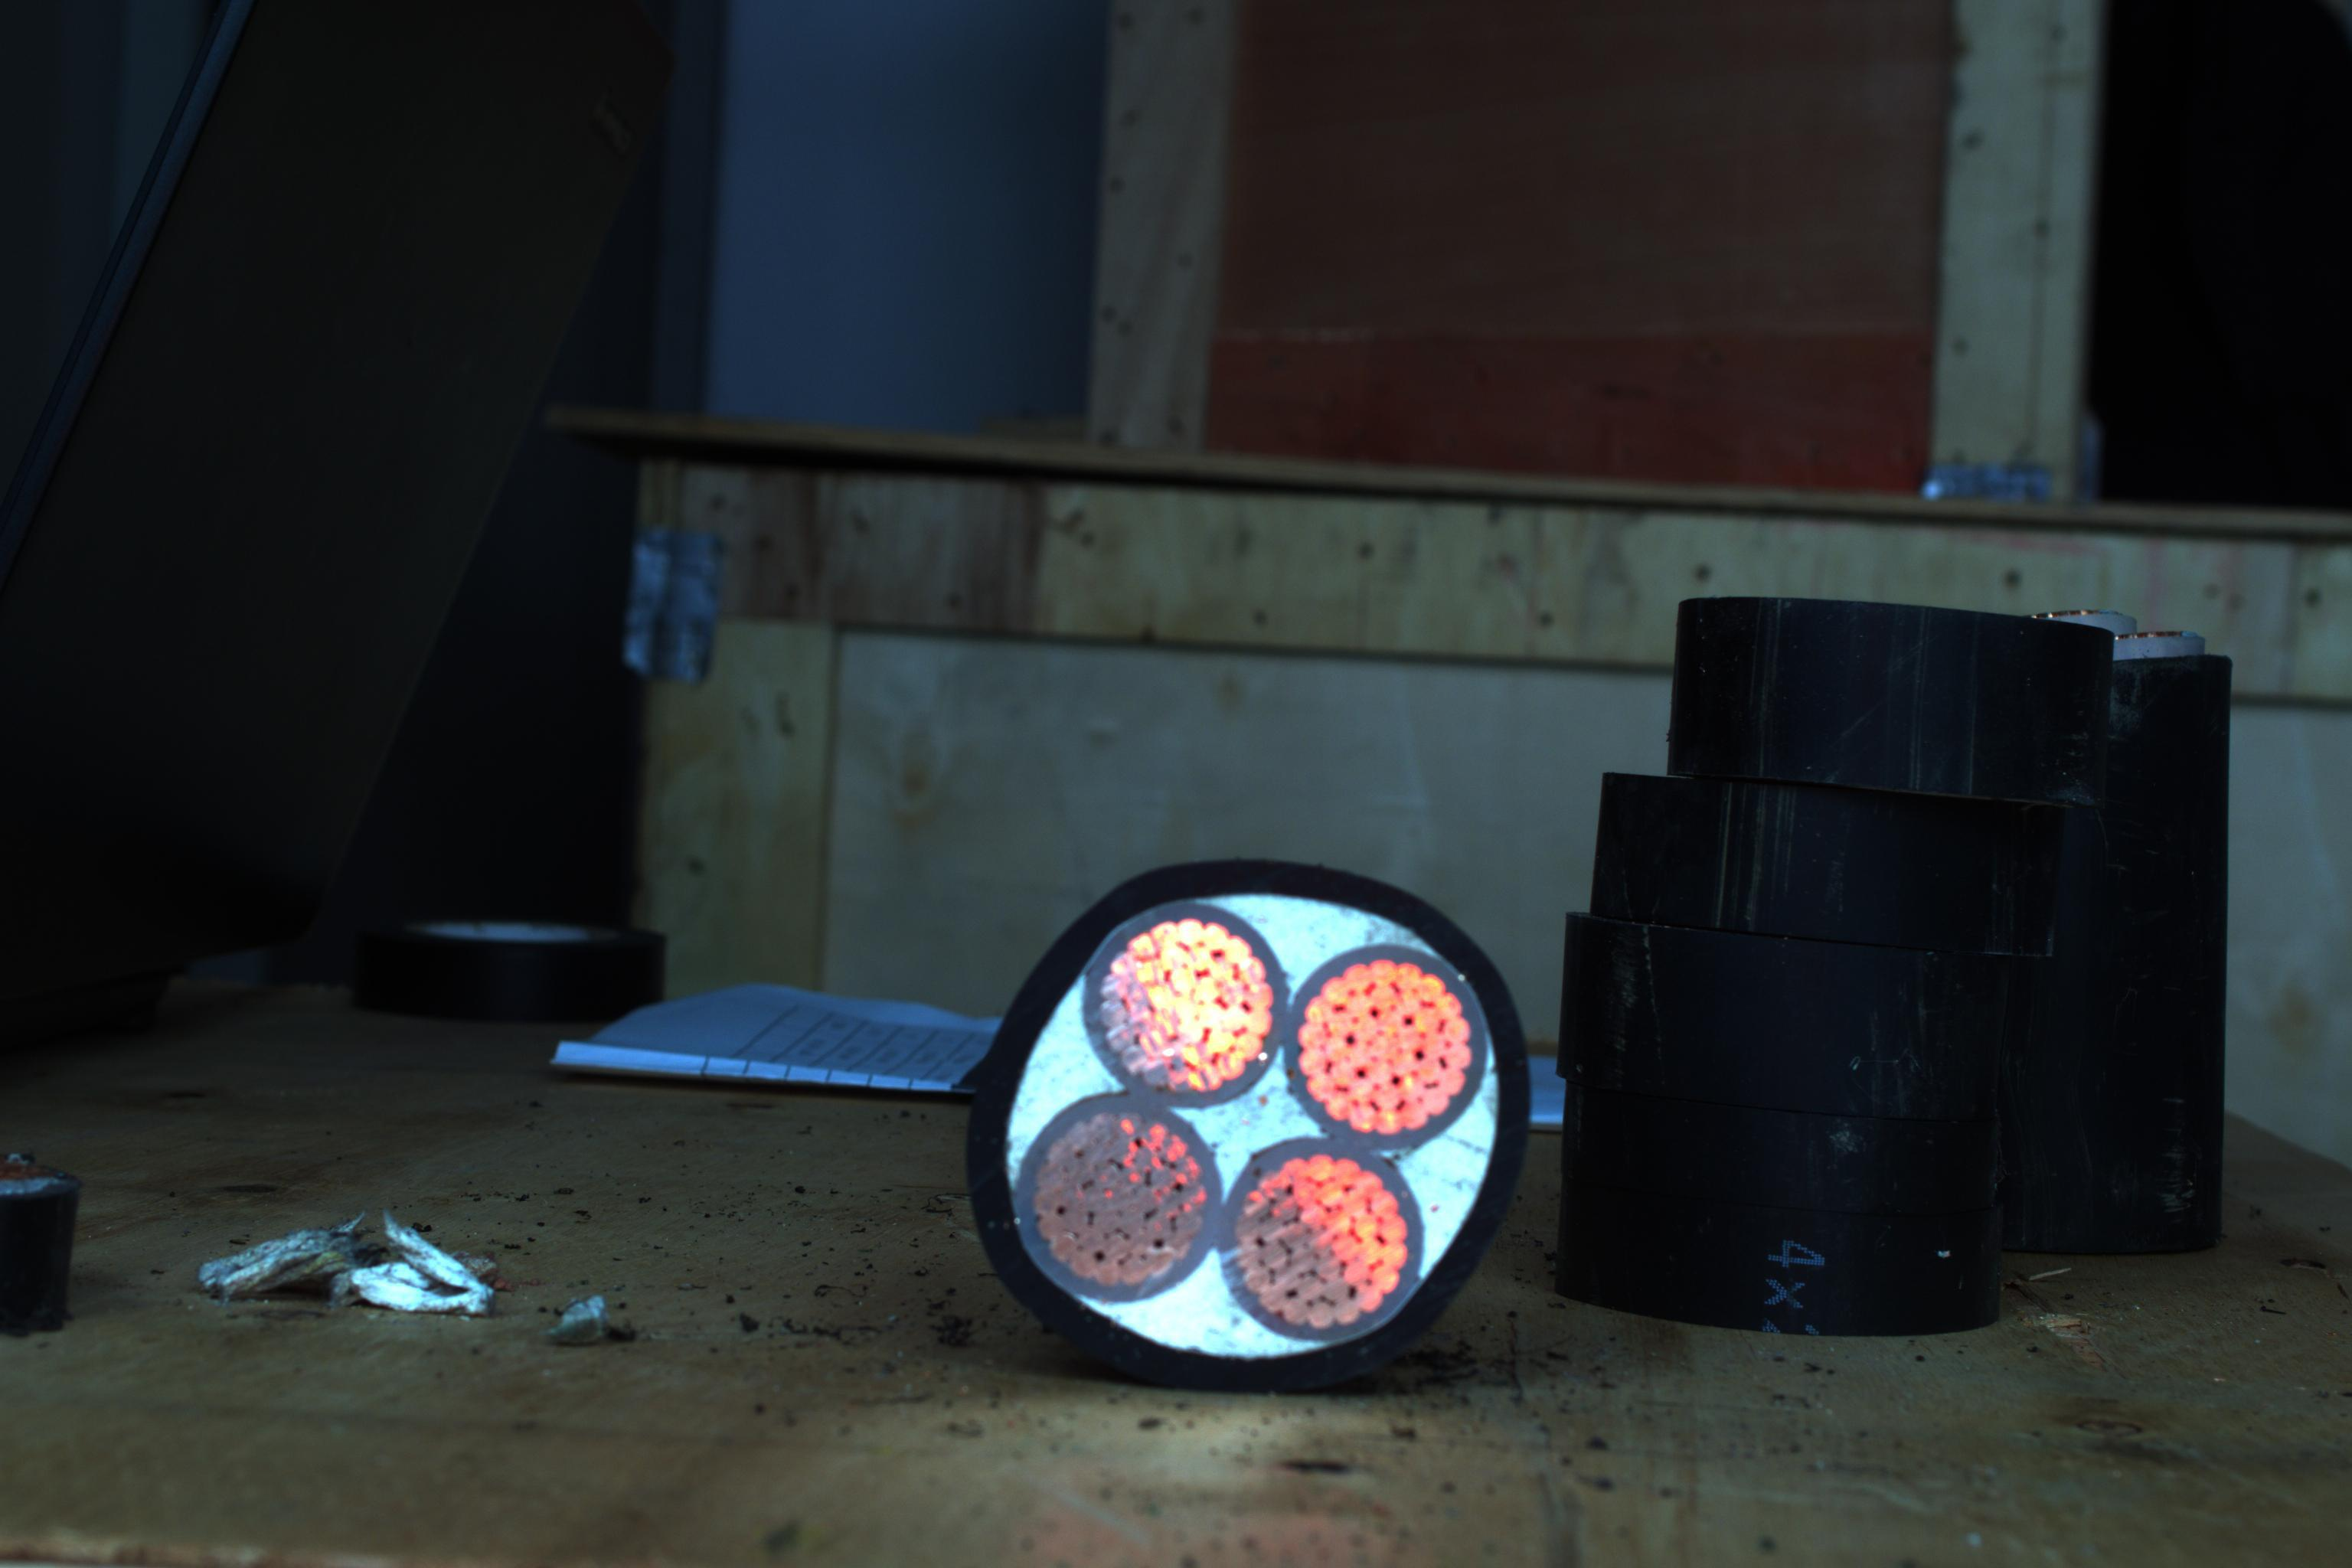YJV_0.6_1kV_4x240: (955, 873, 1528, 1374)
